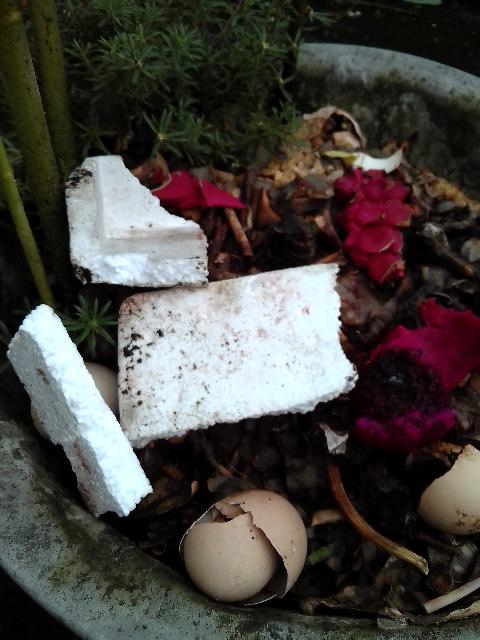cocksheet: (101, 251, 353, 434), (0, 298, 157, 522), (65, 159, 202, 285)
